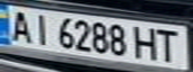2: (69, 17, 93, 53)
6: (51, 15, 75, 51)
8: (106, 21, 130, 57), (90, 19, 112, 55)
A: (3, 8, 36, 43)
H: (130, 25, 163, 61)
I: (27, 11, 54, 46)
T: (151, 26, 187, 63)
